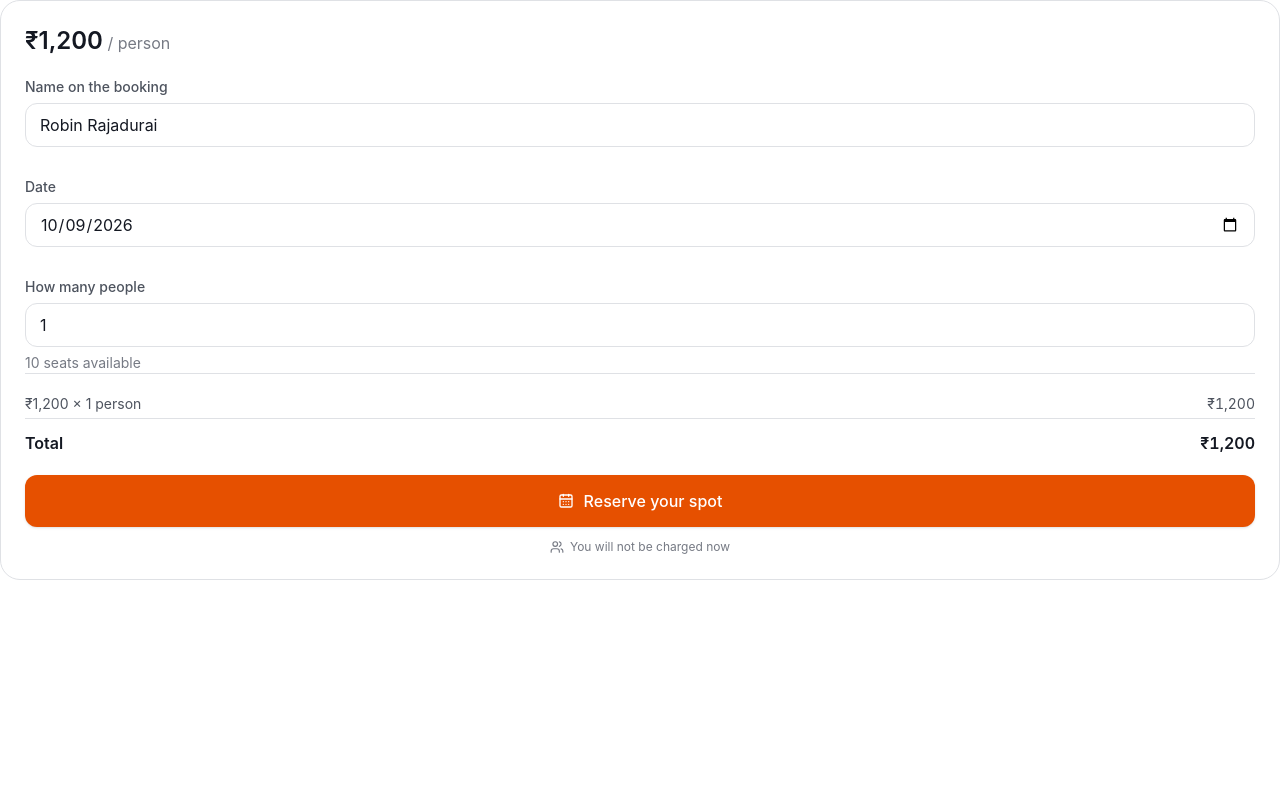
Test: when signed in › confirms the booking once it succeeds
Expected: the date field labelled "Date" is shown, [25,203,1255,247]
Click the button "Reserve your spot" at (640, 501), box [25,475,1255,527]
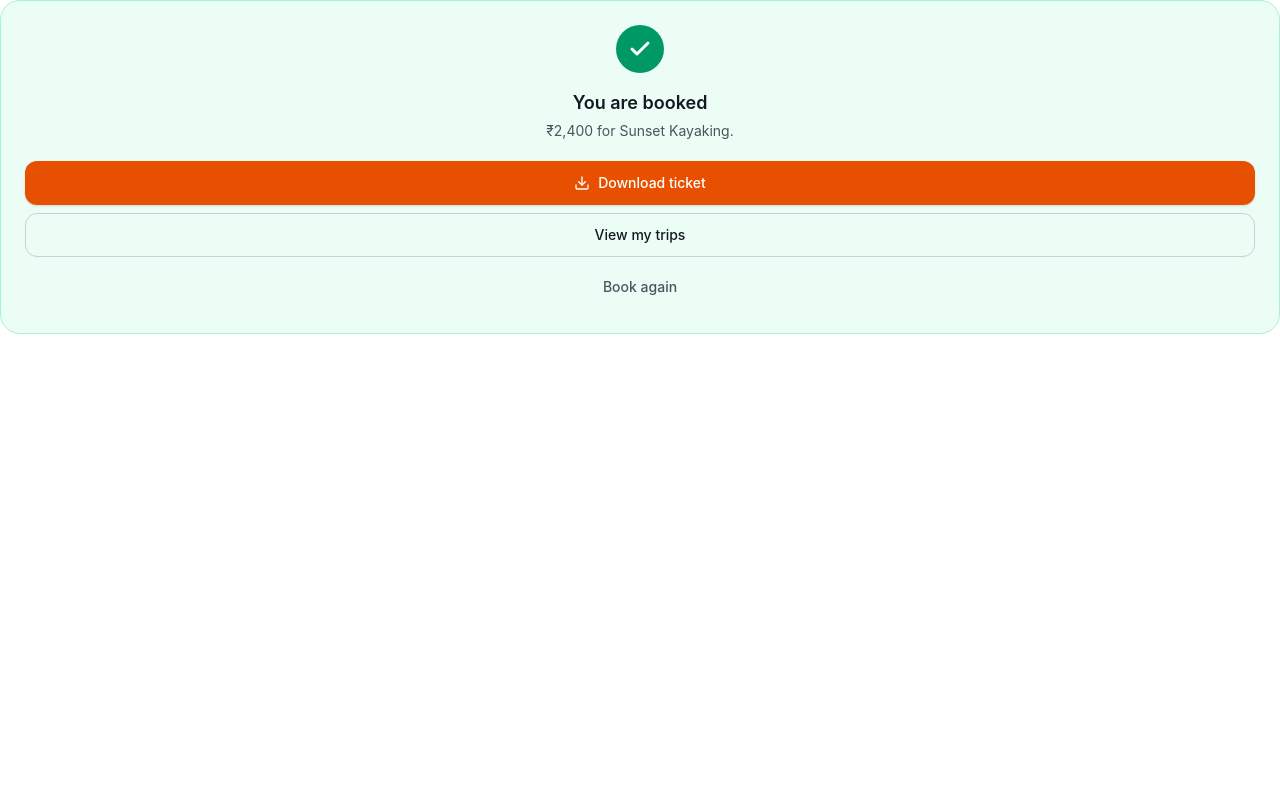
Result: the heading "You are booked" is shown at [573,92,707,113]
Result: the link "View my trips" is shown at [25,213,1255,257]
